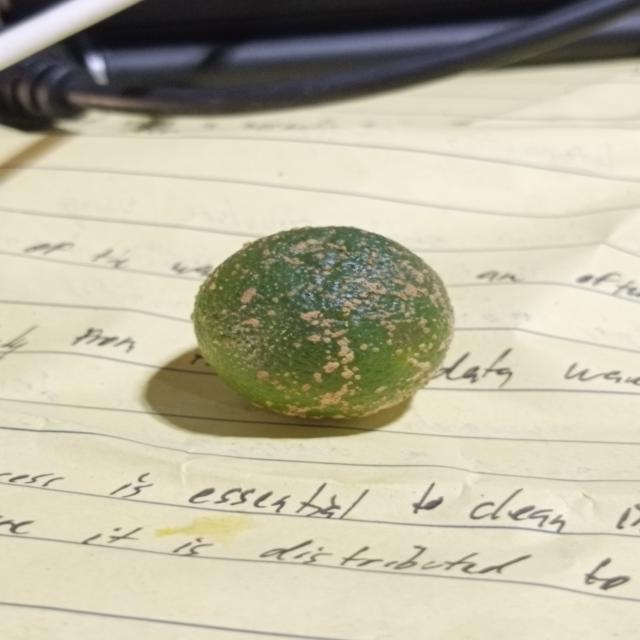scab: (191, 225, 456, 423)
